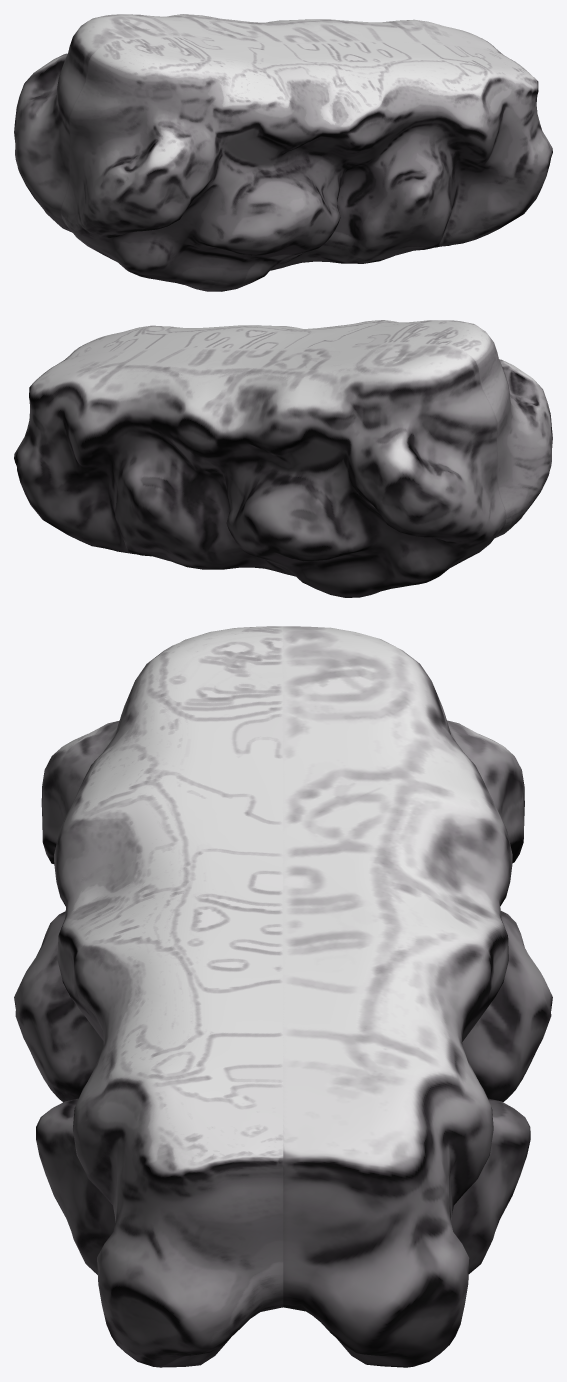
Rendered from Rock_Slide_End.FBX.
The picture shows the model from 3 angles, top to bottom: view 1: azimuth 30°, elevation 25°; view 2: azimuth 150°, elevation 25°; view 3: azimuth 270°, elevation 25°; orthographic projection. The views are drawn at different scales.
Visible parts, largest first — view 1: Group002; view 2: Group002; view 3: Group002.
Part boxes in pixels (x1,y1,x2,y2): Group002: (14,14,552,291); Group002: (14,320,552,597); Group002: (14,626,552,1367).
Size of the model in its own units: 305 by 160 by 172.
